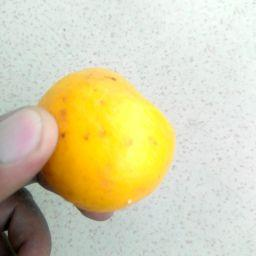Unripe: (51, 71, 179, 213)
